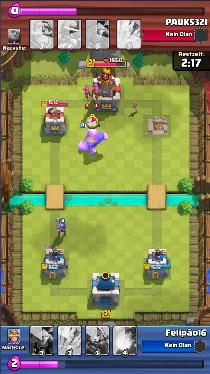ally_giant: (79, 129, 109, 154)
ally_musketeer: (55, 217, 67, 236)
enemy_archer: (82, 85, 90, 99), (92, 86, 99, 99)
